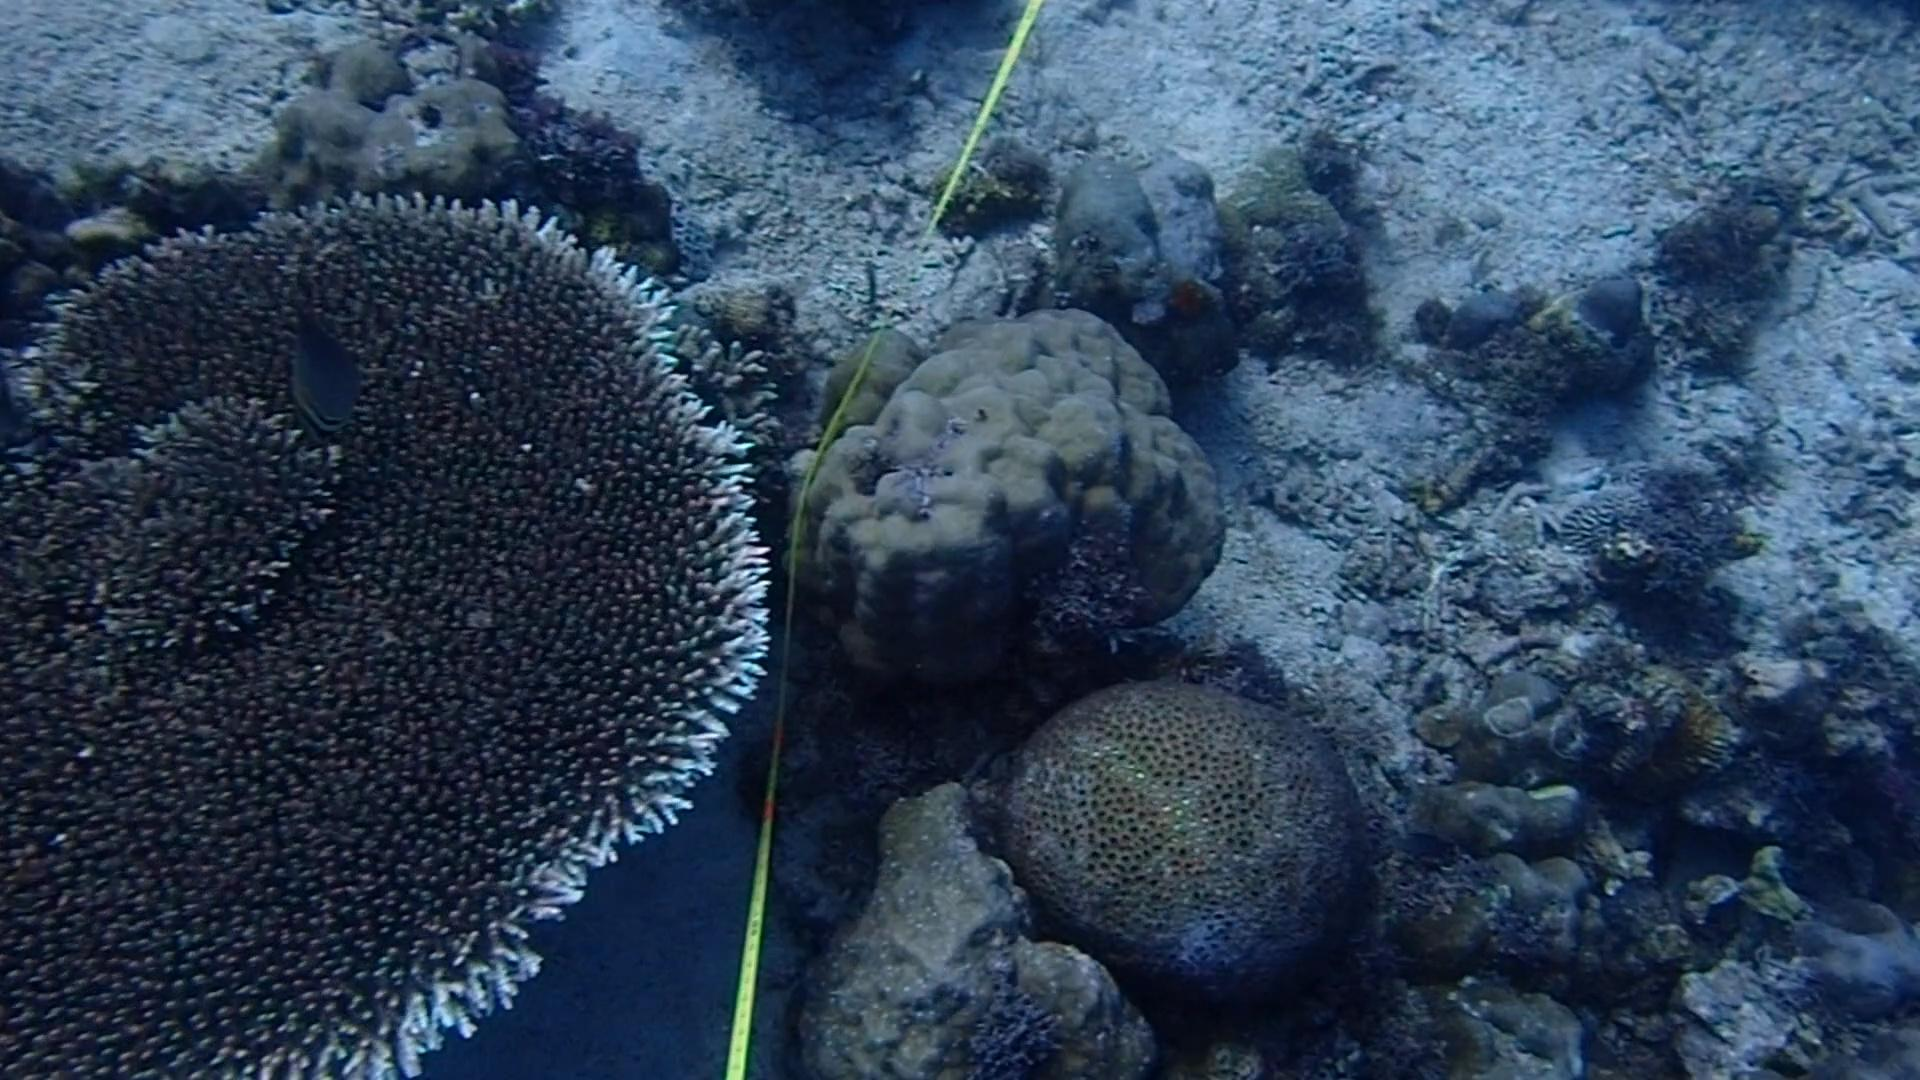Dark Blue Dory: (280, 295, 376, 446)
Light Fish: (1398, 823, 1462, 881)
